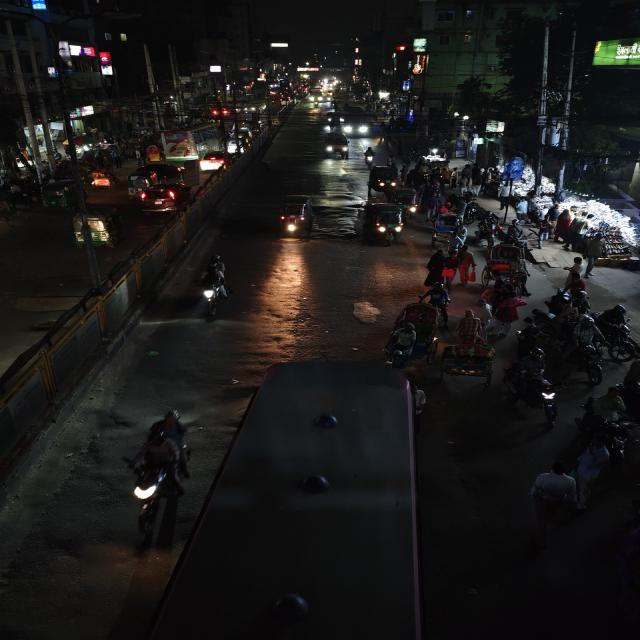bus: (162, 356, 430, 640), (158, 120, 222, 160), (339, 104, 373, 138)
car: (135, 179, 195, 215), (126, 162, 188, 188), (198, 149, 238, 173), (323, 131, 351, 159)
cng: (70, 203, 127, 251), (272, 193, 317, 239), (365, 200, 408, 246), (124, 162, 188, 190), (40, 180, 80, 210), (387, 186, 422, 213), (368, 164, 400, 192)
motorcycle: (118, 406, 201, 540), (505, 351, 561, 424), (577, 405, 633, 461), (193, 254, 233, 316), (561, 272, 590, 309), (362, 146, 378, 167)
pedestrian: (522, 459, 578, 539), (569, 442, 608, 516), (562, 258, 590, 306), (420, 248, 450, 289), (581, 234, 605, 277), (564, 256, 591, 284)
rickshaw: (379, 304, 433, 371), (438, 336, 498, 384), (484, 242, 531, 294), (430, 212, 464, 246), (84, 168, 116, 190), (142, 143, 167, 163)
